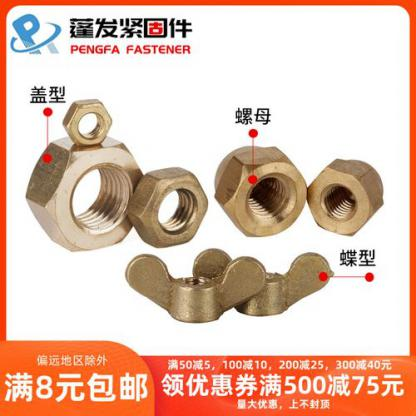FOD: (26, 130, 144, 254), (191, 246, 334, 316), (122, 254, 266, 321), (214, 144, 306, 236), (126, 166, 210, 249), (307, 157, 384, 239), (61, 98, 114, 150)
